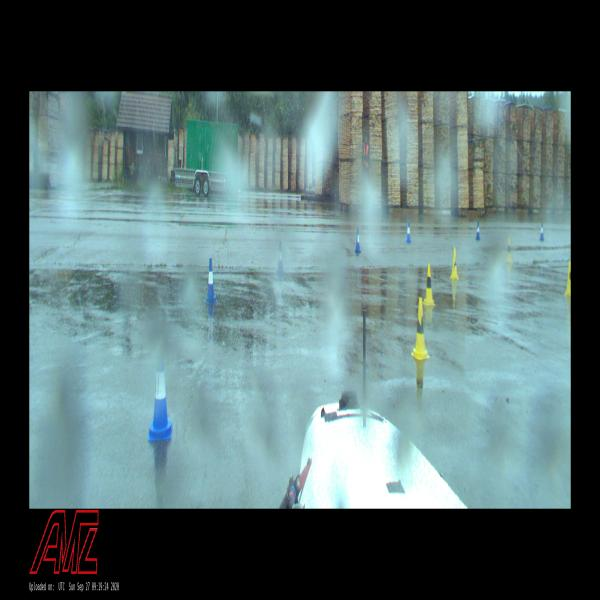blue_cone: (149, 358, 173, 440), (205, 259, 217, 303), (276, 242, 284, 276), (355, 228, 361, 253), (406, 220, 412, 242), (476, 220, 480, 240), (540, 222, 544, 240)
yellow_cone: (411, 297, 430, 359), (423, 266, 436, 306), (450, 249, 459, 279), (564, 263, 570, 295), (506, 238, 512, 262)
